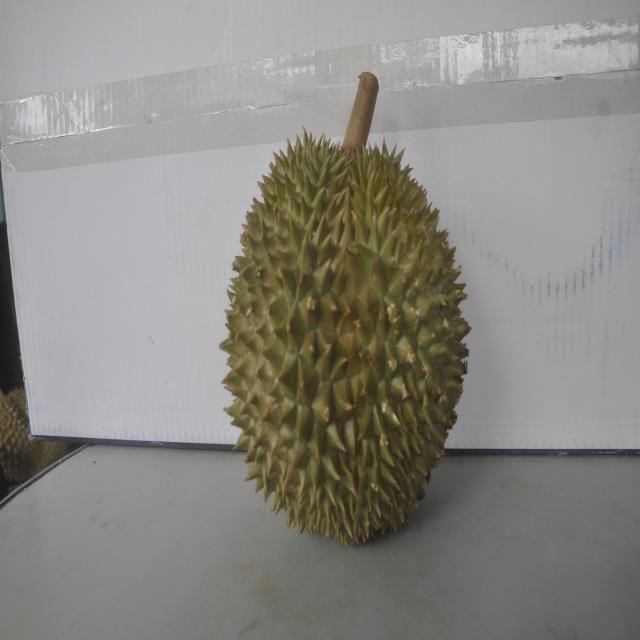mature: (222, 115, 460, 547)
